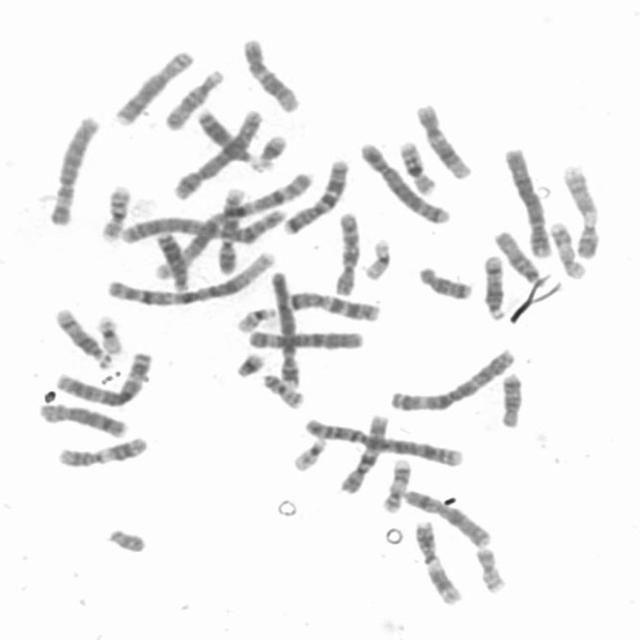A1: (142, 166, 316, 284), (101, 246, 277, 308)
A2: (300, 414, 465, 468), (116, 204, 290, 246)
A3: (385, 343, 520, 413), (50, 346, 156, 408)
B4: (501, 143, 555, 260), (266, 266, 302, 391)
B5: (170, 104, 265, 201), (356, 137, 453, 226)
C10: (336, 408, 392, 496), (329, 207, 363, 297)
C11: (410, 516, 466, 606), (52, 432, 151, 469)
C12: (239, 32, 303, 114), (411, 98, 474, 180)
C6: (44, 111, 102, 227), (242, 324, 368, 352)
C7: (278, 152, 351, 236), (283, 286, 382, 322)
C8: (110, 45, 197, 127), (34, 398, 131, 439)
C9: (559, 159, 603, 260), (213, 182, 248, 276)
D13: (192, 105, 259, 165), (153, 227, 192, 292)
D14: (51, 302, 114, 370), (478, 250, 509, 321)
D15: (159, 64, 227, 132), (489, 226, 544, 285)
E16: (394, 136, 438, 196), (96, 180, 133, 242)
E17: (546, 217, 589, 280), (377, 453, 412, 514)
E18: (414, 261, 476, 301), (495, 368, 525, 429)
F19: (359, 233, 394, 282), (92, 310, 125, 356)
F20: (471, 542, 510, 595), (257, 368, 306, 410)
G21: (246, 130, 290, 172), (231, 348, 267, 378)
G22: (288, 433, 330, 473), (233, 302, 279, 334)
X: (400, 484, 495, 550)
Y: (103, 523, 149, 555)
